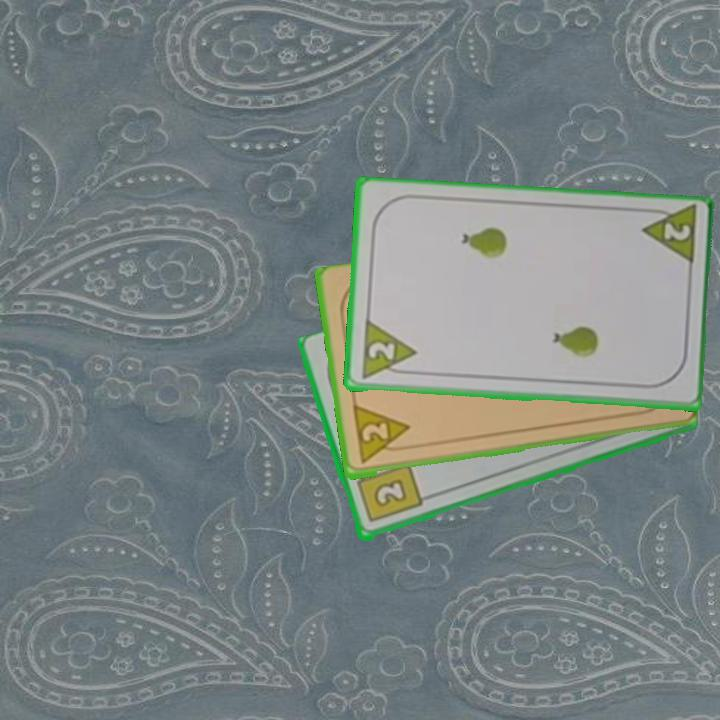2b: (352, 460, 425, 526)
2p: (349, 404, 414, 469), (637, 204, 699, 270), (357, 318, 419, 383)
